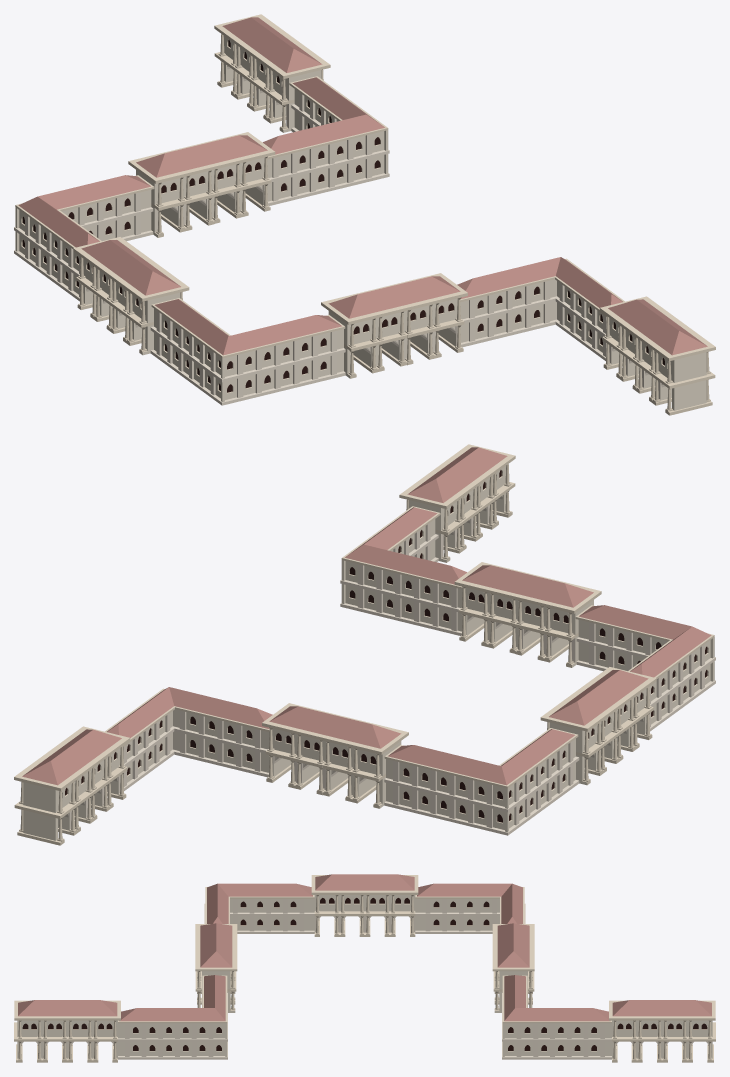
File: BigHouses.fbx
The picture shows the model from 3 angles, top to bottom: view 1: azimuth 30°, elevation 25°; view 2: azimuth 150°, elevation 25°; view 3: azimuth 270°, elevation 25°; orthographic projection. The views are drawn at different scales.
Visible parts, largest first — view 1: buildings8; view 2: buildings8; view 3: buildings8.
Part boxes in pixels (x1,y1,x2,y2): buildings8: [14, 14, 715, 415]; buildings8: [14, 444, 715, 845]; buildings8: [14, 874, 715, 1062].
Bounding box in the file's own units: 97.14 × 17.25 × 201.
